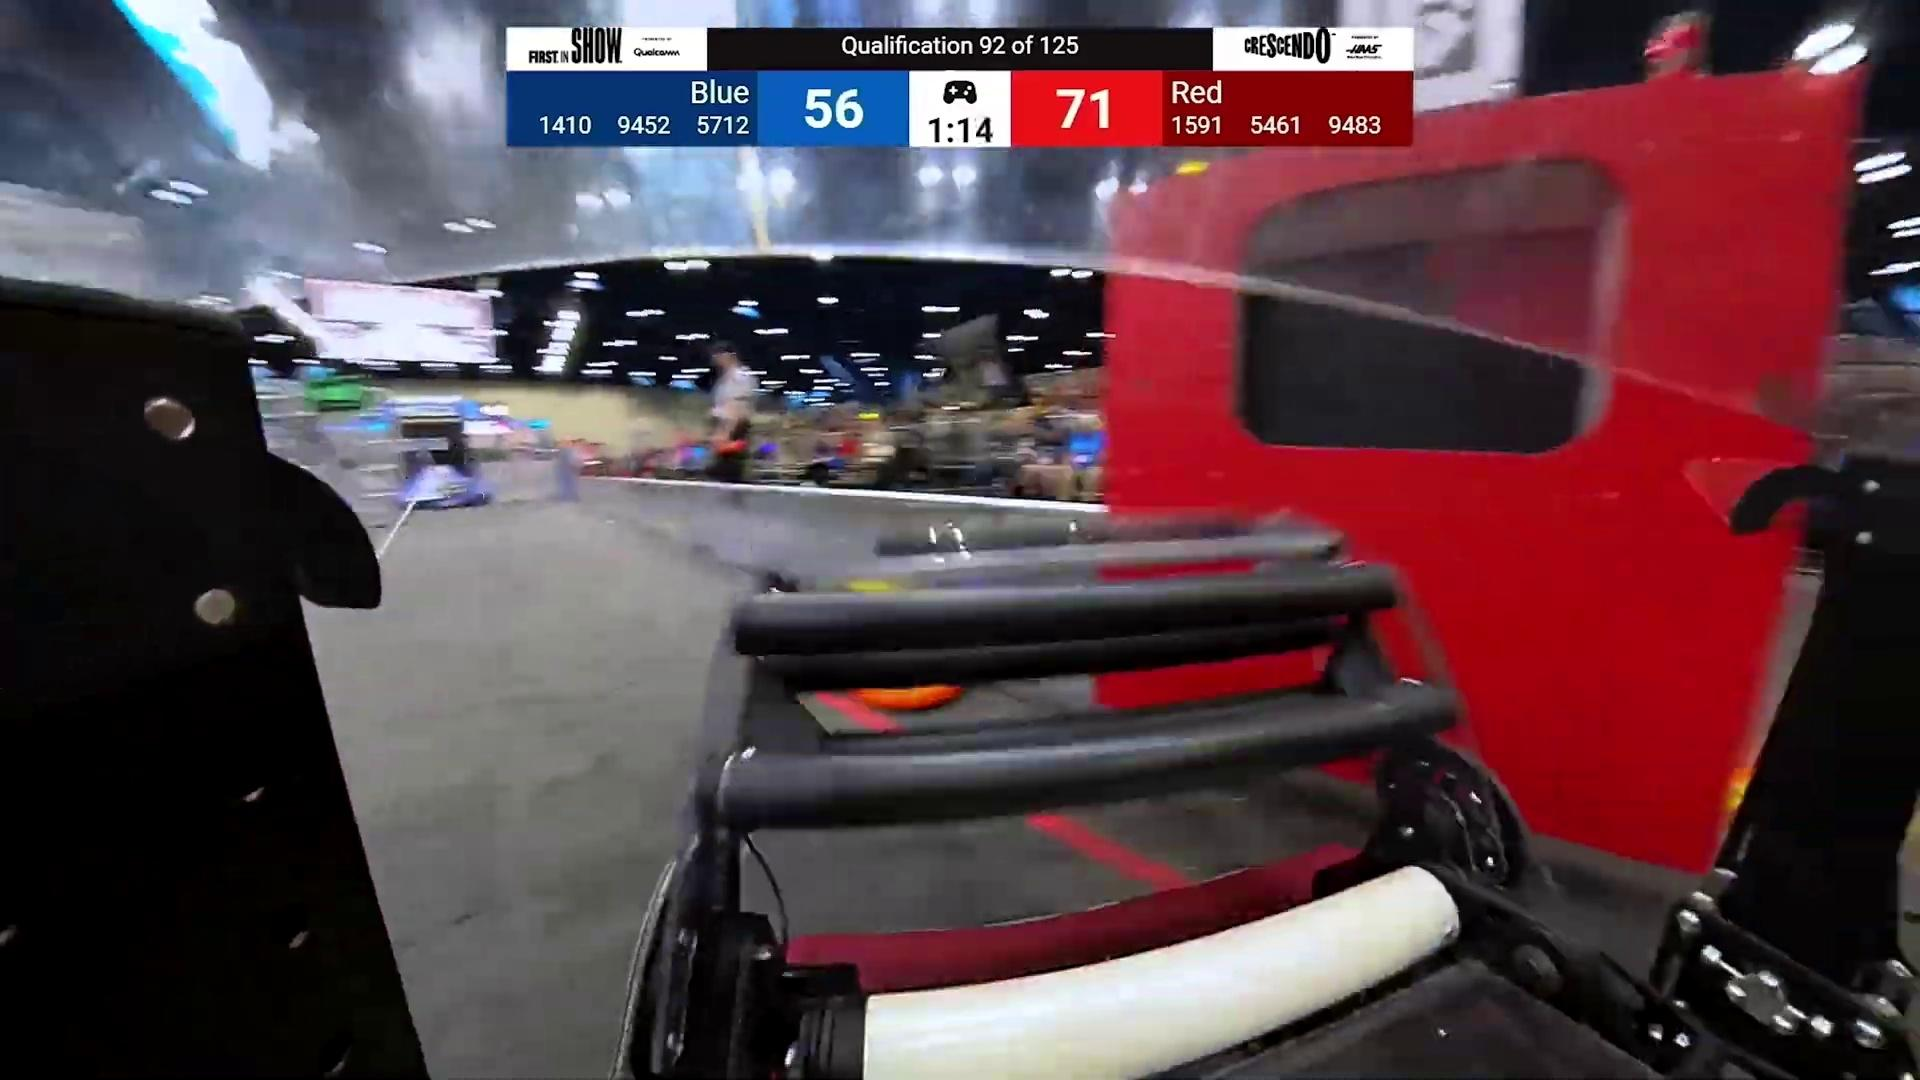robot: (427, 481, 492, 512)
